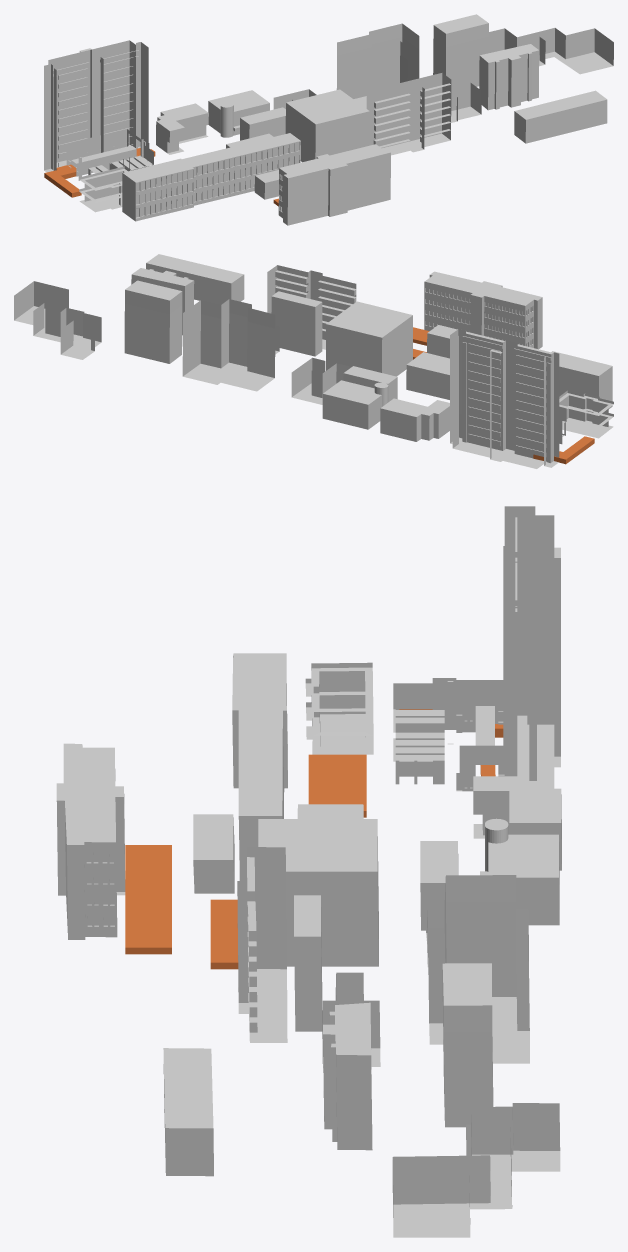
The model's file is map_3d.glb.
3 renders of one model, top to bottom at view 1: azimuth 30°, elevation 25°; view 2: azimuth 150°, elevation 25°; view 3: azimuth 270°, elevation 25°, orthographic. The views are drawn at different scales.
Visible parts, largest first — view 1: E12 Building BIG, Argri & AE Food & CHEM ENG - concrete, geo lab, Architecture building, HM building, Plane.007, Construction ENG, IMSE ENG & Auditorium ENG building, Plane.002, Plane.010, Plane.008, E12 Building.001 Small, Plane.015 (+7 smaller); view 2: E12 Building BIG, Plane.007, Architecture building, Construction ENG, Plane.008, IMSE ENG & Auditorium ENG building, HM building, Argri & AE Food & CHEM ENG - concrete, geo lab, Clubs Building, Mechanical Building, Plane.015, Plane.010 (+6 smaller); view 3: E12 Building BIG, IMSE ENG & Auditorium ENG building, Plane.007, Construction ENG, Architecture building, E12 Building.001 Small, Argri & AE Food & CHEM ENG - concrete, geo lab, HM building, Plane.008, archetechture-park, Plane.002, Plane.010 (+9 smaller).
Part boxes in pixels (x1,y1,x2,y2): E12 Building BIG: (44, 40, 148, 172); Argri & AE Food & CHEM ENG - concrete, geo lab: (122, 133, 300, 221); Architecture building: (278, 144, 390, 225); HM building: (366, 73, 451, 155); Plane.007: (336, 23, 419, 108); Construction ENG: (285, 89, 369, 162); IMSE ENG & Auditorium ENG building: (488, 28, 613, 74); Plane.002: (479, 44, 539, 110); Plane.010: (514, 90, 607, 143); Plane.008: (433, 14, 488, 87); E12 Building.001 Small: (66, 129, 153, 180); Plane.015: (156, 103, 208, 153); E12 Building BIG: (450, 329, 559, 468); Plane.007: (182, 299, 275, 391); Architecture building: (424, 271, 542, 349); Construction ENG: (326, 301, 412, 376); Plane.008: (124, 280, 182, 363); IMSE ENG & Auditorium ENG building: (14, 281, 101, 359); HM building: (267, 265, 356, 349); Argri & AE Food & CHEM ENG - concrete, geo lab: (427, 325, 612, 408); Clubs Building: (271, 291, 322, 356); Mechanical Building: (322, 380, 388, 429); Plane.015: (380, 398, 449, 441); Plane.010: (146, 254, 244, 304); E12 Building BIG: (503, 506, 560, 788); IMSE ENG & Auditorium ENG building: (392, 1103, 560, 1237); Plane.007: (428, 875, 529, 1063); Construction ENG: (258, 819, 378, 966); Architecture building: (56, 743, 125, 939); E12 Building.001 Small: (393, 678, 504, 791); Argri & AE Food & CHEM ENG - concrete, geo lab: (232, 653, 287, 880); HM building: (237, 847, 287, 1042); Plane.008: (442, 963, 493, 1127); archetechture-park: (125, 845, 238, 969); Plane.002: (323, 1002, 372, 1150); Plane.010: (163, 1048, 213, 1176).
Bounding box in the file's own units: 3.34 × 0.5954 × 1.32.
